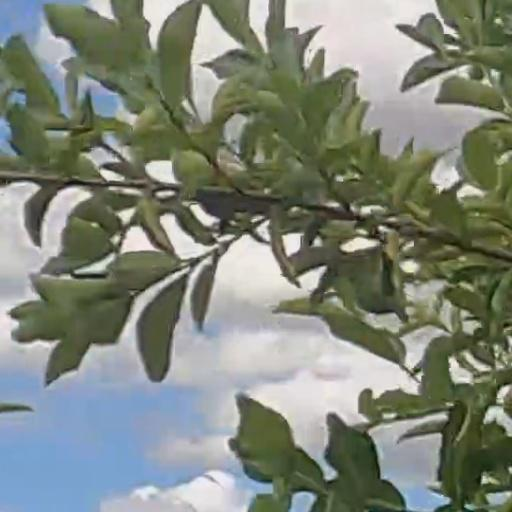acerola: (357, 266, 390, 311), (173, 150, 211, 181)
